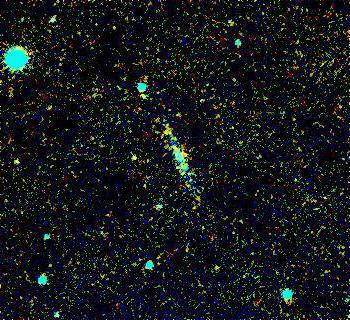star: (2, 147, 32, 177)
